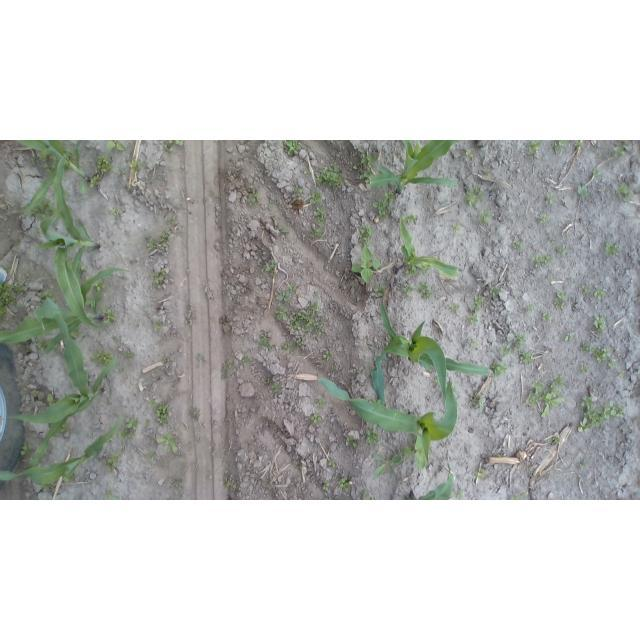Maize: (8, 298, 119, 466), (318, 375, 459, 469), (40, 152, 113, 327), (372, 299, 490, 407), (1, 267, 128, 353), (0, 419, 116, 481), (14, 141, 95, 216), (367, 141, 461, 198), (393, 210, 459, 283), (408, 465, 454, 500)
Weeds: (275, 283, 325, 337), (578, 397, 626, 432), (350, 246, 382, 289), (579, 340, 620, 368), (88, 155, 117, 188), (315, 161, 347, 189), (0, 283, 26, 316), (373, 189, 400, 220), (372, 452, 403, 478), (540, 391, 565, 421), (146, 231, 172, 254), (500, 334, 523, 359), (355, 152, 375, 179), (463, 182, 484, 207), (119, 417, 140, 441), (156, 433, 179, 454), (525, 380, 542, 406), (150, 400, 171, 421), (520, 140, 542, 160), (611, 140, 631, 161), (490, 360, 512, 379), (282, 336, 302, 356), (582, 281, 607, 297), (617, 182, 635, 204), (365, 427, 384, 447), (108, 449, 124, 471), (147, 268, 165, 287), (358, 223, 374, 244), (222, 359, 237, 381), (91, 348, 109, 366), (306, 227, 327, 242), (285, 140, 303, 157), (418, 280, 434, 299), (128, 156, 144, 175), (474, 210, 492, 226), (467, 395, 487, 409), (258, 331, 270, 354), (107, 140, 130, 152), (545, 191, 561, 208), (310, 189, 327, 205), (550, 141, 568, 156), (547, 375, 565, 390), (86, 294, 103, 309), (40, 197, 57, 212), (534, 252, 552, 266), (554, 291, 568, 309), (465, 147, 480, 163), (273, 218, 288, 234), (473, 297, 486, 315), (164, 141, 185, 152), (594, 315, 606, 334), (346, 437, 361, 452), (604, 241, 620, 255), (521, 351, 535, 366), (266, 259, 279, 275), (311, 413, 325, 427), (338, 476, 350, 492), (187, 409, 201, 422), (20, 441, 33, 455), (314, 207, 327, 221), (225, 476, 238, 490), (406, 264, 424, 274), (536, 214, 551, 225), (249, 189, 260, 204), (375, 282, 386, 297), (403, 214, 419, 224), (576, 186, 588, 199), (402, 283, 413, 297), (475, 468, 489, 479), (511, 492, 526, 501), (564, 332, 576, 343), (174, 479, 186, 490), (104, 490, 117, 500), (105, 310, 115, 323), (556, 244, 569, 254), (38, 290, 52, 299), (320, 349, 332, 359), (513, 239, 525, 249), (147, 450, 157, 462), (492, 286, 501, 299), (450, 302, 459, 315), (112, 209, 123, 219), (468, 314, 478, 325), (315, 397, 325, 408), (63, 423, 74, 433), (197, 353, 208, 363), (271, 381, 281, 392), (38, 339, 47, 351), (124, 348, 134, 358), (452, 222, 463, 231), (323, 480, 330, 493), (41, 152, 50, 162), (152, 321, 162, 330), (542, 312, 552, 321), (292, 188, 302, 197), (95, 279, 104, 289), (593, 168, 604, 176), (456, 490, 465, 499), (480, 165, 489, 173), (526, 304, 535, 312), (471, 338, 480, 346), (582, 363, 590, 372), (70, 331, 80, 338), (47, 394, 54, 404), (573, 140, 581, 148), (241, 357, 251, 363), (552, 436, 560, 443), (620, 369, 627, 377), (330, 459, 338, 466), (269, 201, 274, 212), (144, 418, 150, 427), (34, 227, 40, 235), (81, 265, 87, 271)
